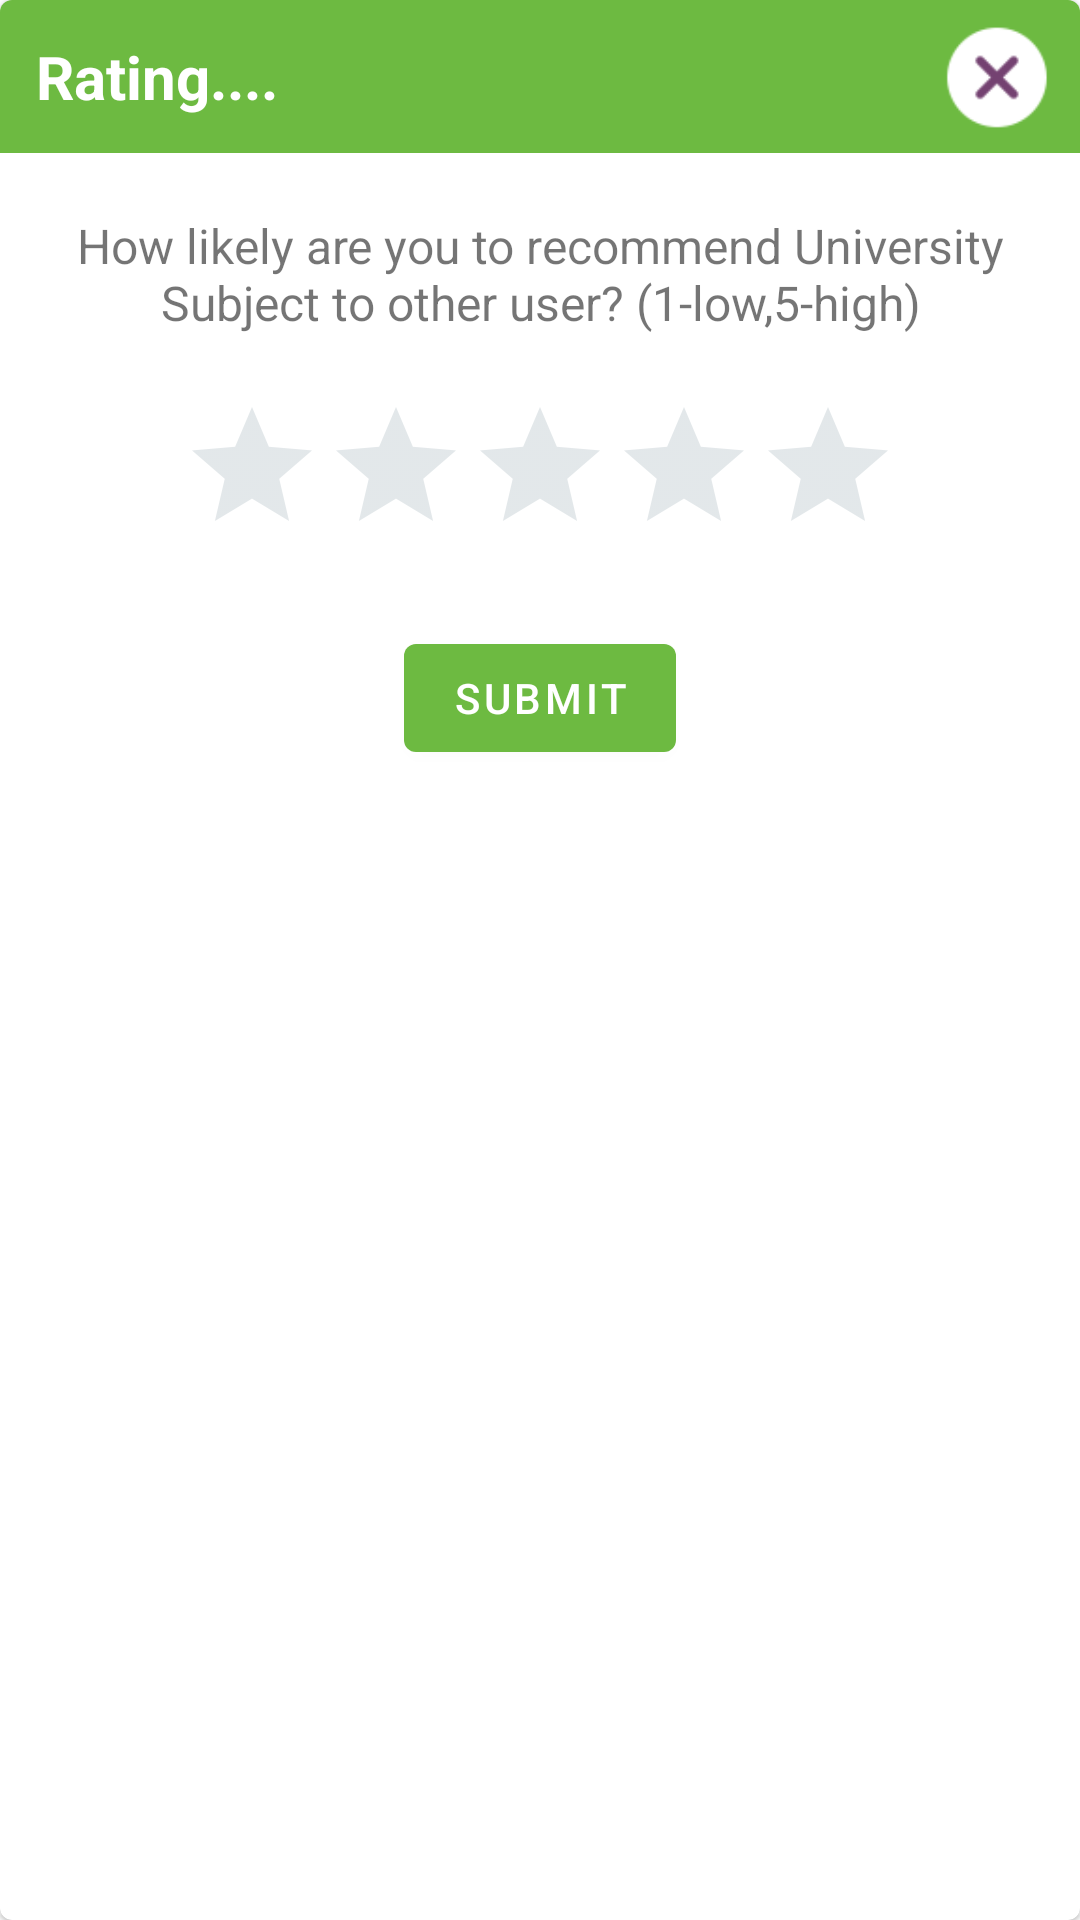

Named icons in this screenshot (1080 x 1920) and their centers, point (x, y):
close: point (997, 77)
